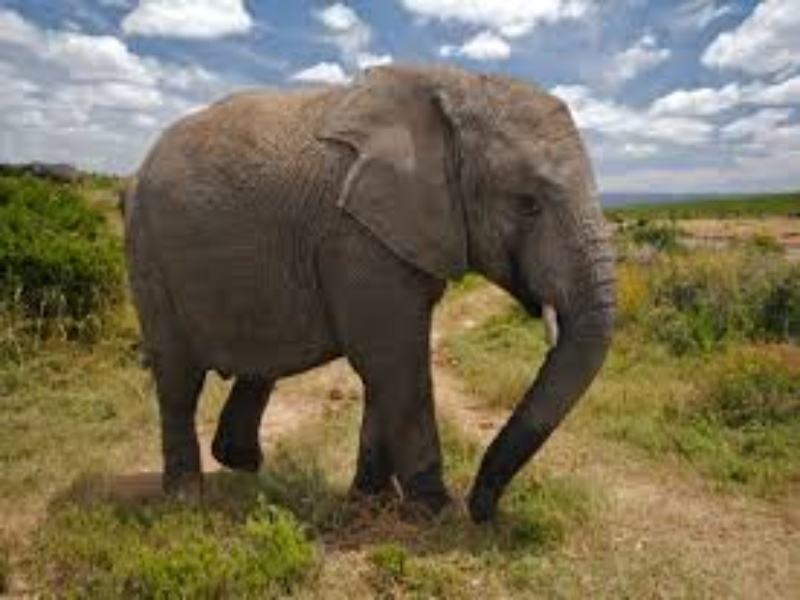elephant: (117, 58, 639, 534)
